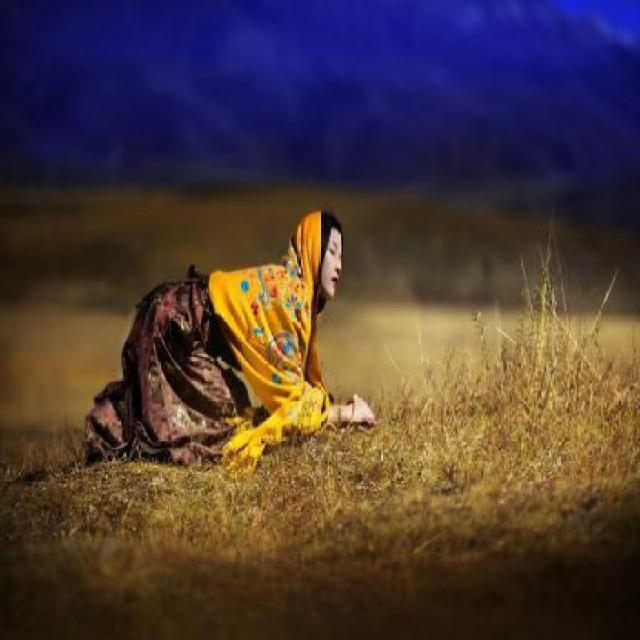fall: (58, 200, 382, 483)
